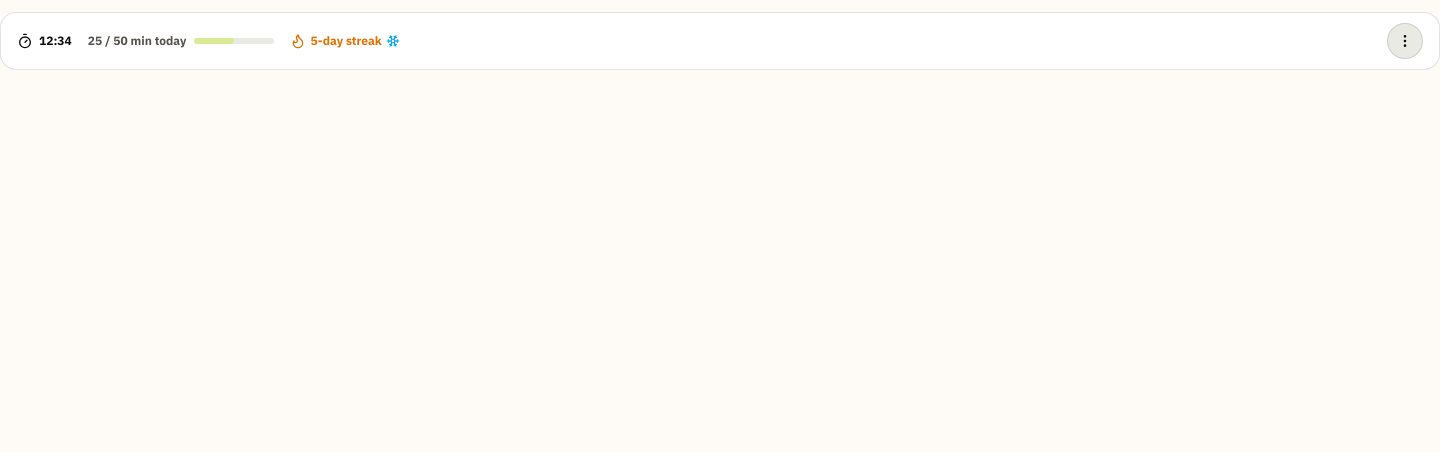
Test: focus timer › counts down, and breaks are not study time
Click the button named "Study session options" at [1405, 41], box x1=1387 y1=23 x2=1423 y2=59
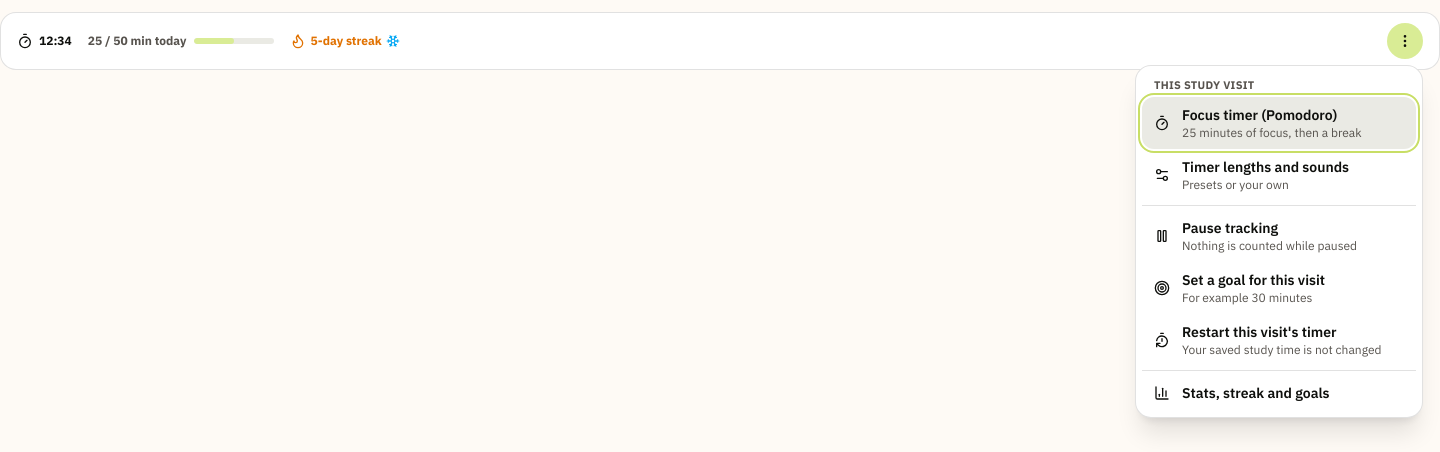
Click the menu item "Focus timer (Pomodoro) 25 minutes of focus, then a break" at [1279, 123], box x1=1142 y1=97 x2=1416 y2=149
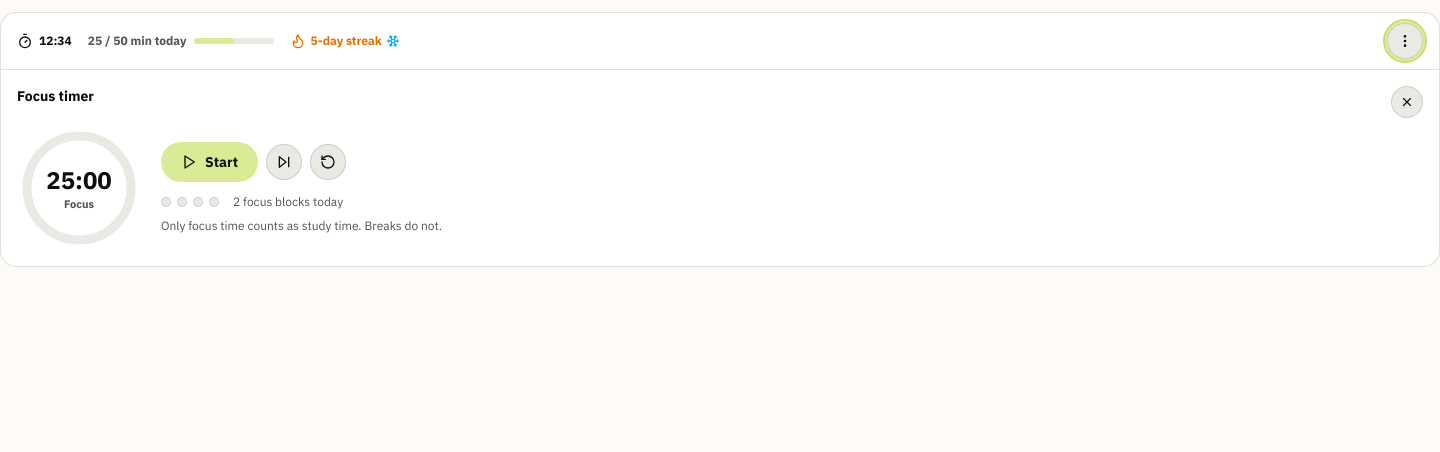
Click the button "Start" at [210, 162], box x1=161 y1=142 x2=258 y2=182
Wait 1500000 ms
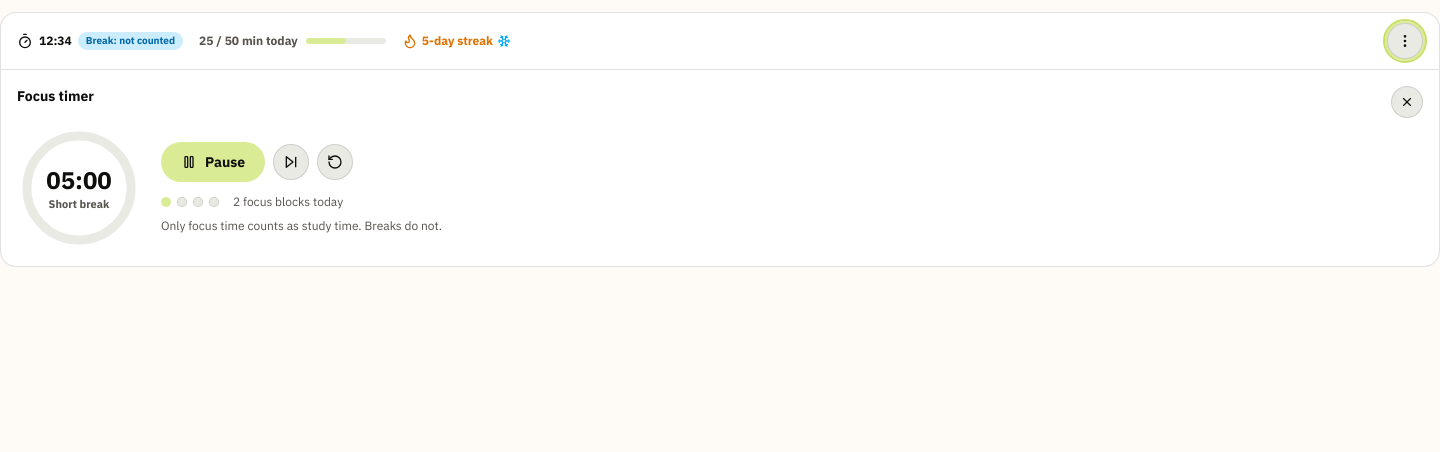
Expected: the text "Short break" is shown, x1=49 y1=196 x2=109 y2=212
Expected: the text "Break: not counted" is shown, x1=78 y1=32 x2=183 y2=50
